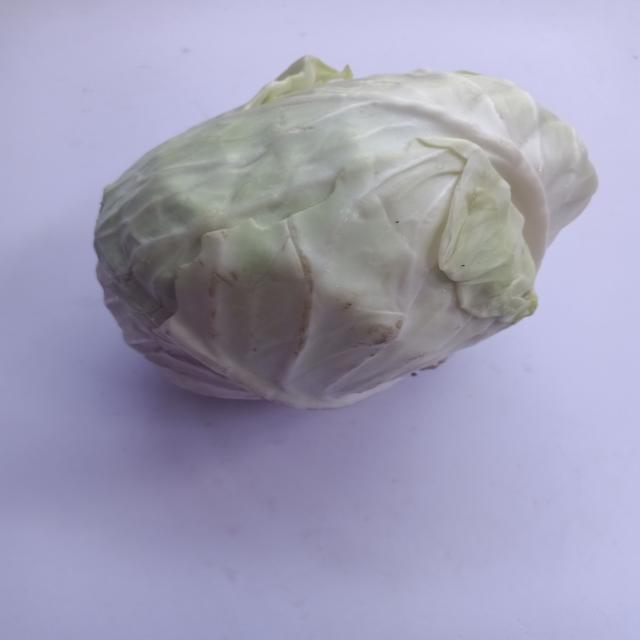Cabbage: (81, 48, 640, 425)
